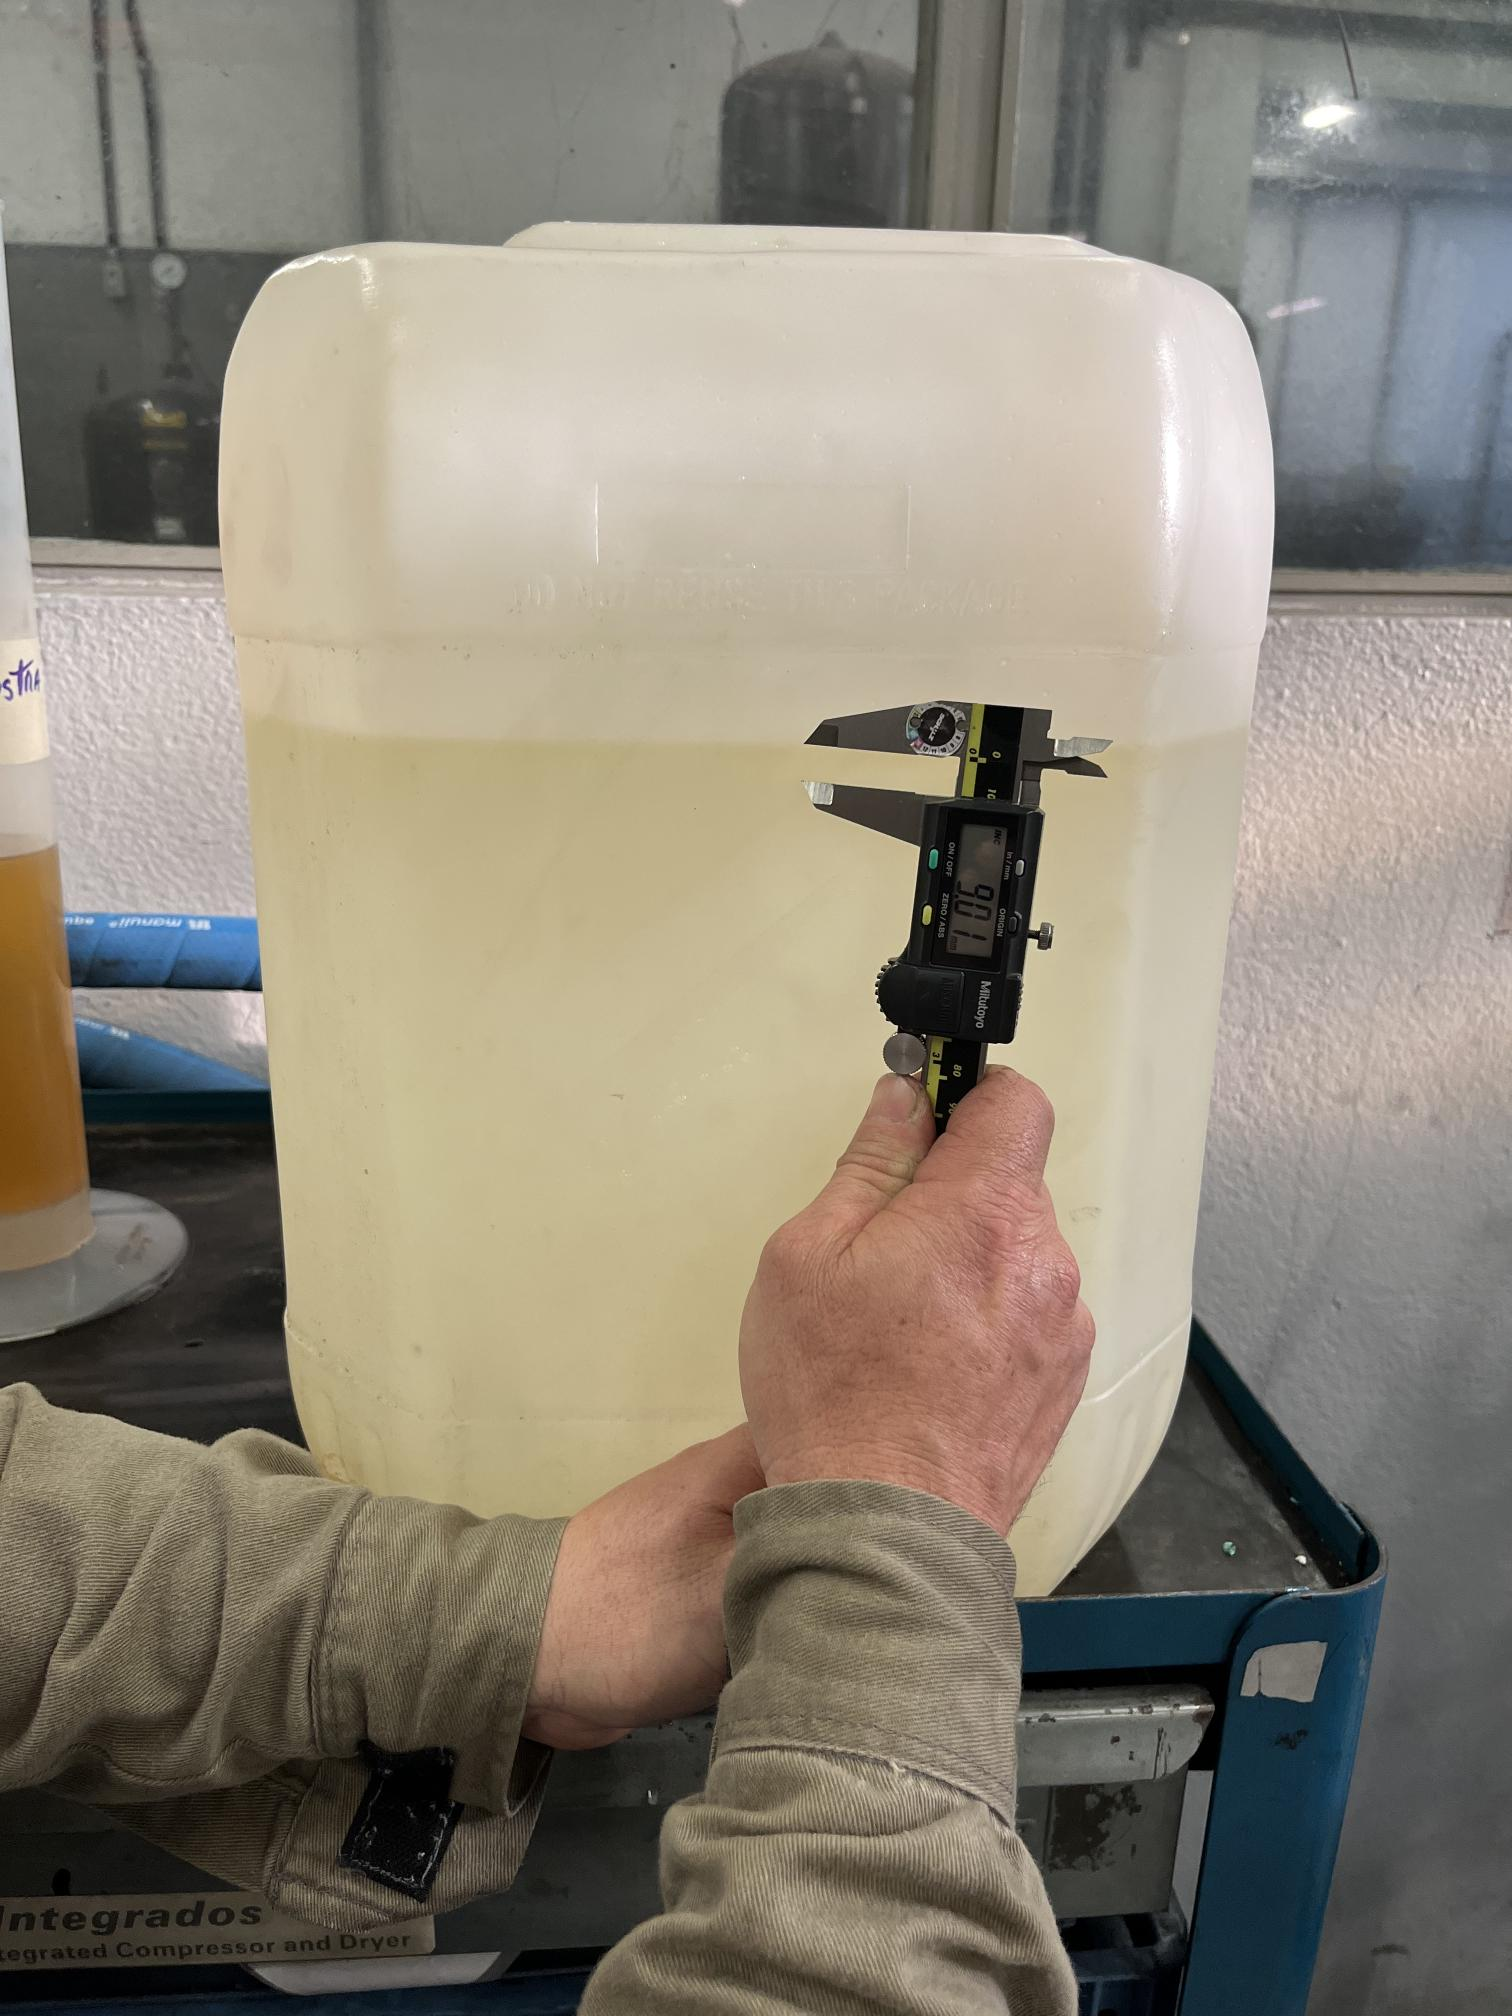Galao: (210, 135, 1250, 1649)
